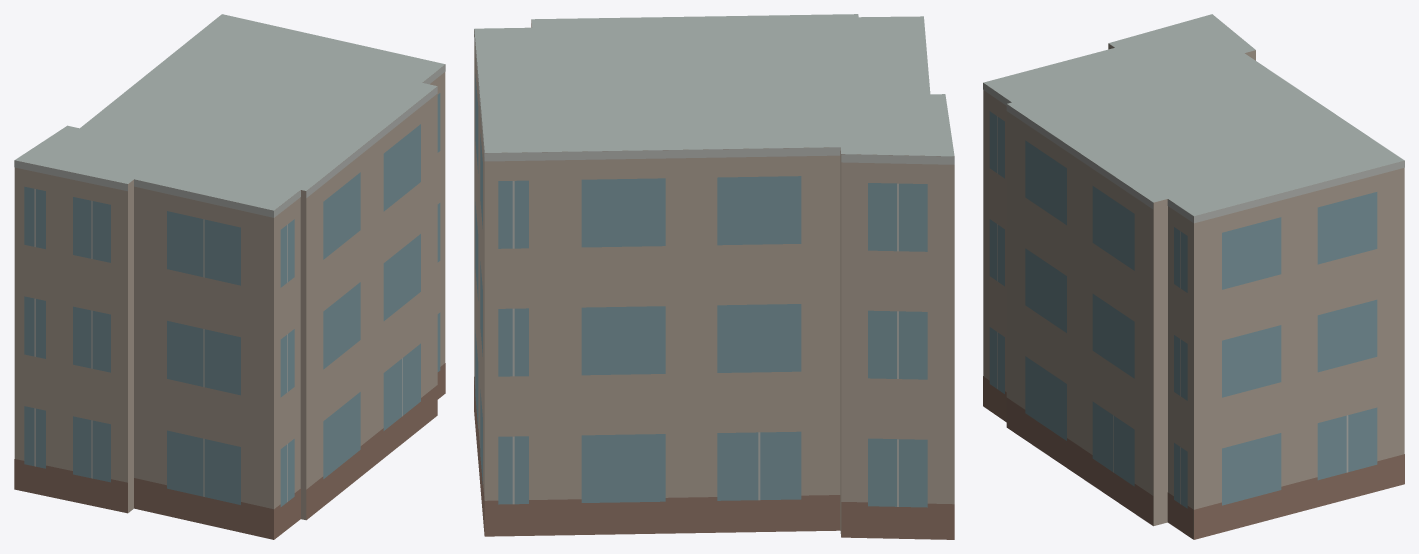
File: survey-upis-32845611.glb
3 views of the same model, side by side, from view 1: azimuth 30°, elevation 25°; view 2: azimuth 150°, elevation 25°; view 3: azimuth 270°, elevation 25° (orthographic). The views are drawn at different scales.
Visible parts, largest first — view 1: survey-upis-32845611.tmp; view 2: survey-upis-32845611.tmp; view 3: survey-upis-32845611.tmp.
Boxes of the visible parts, x1,y1,x2,y2 form: survey-upis-32845611.tmp: [14, 14, 445, 539]; survey-upis-32845611.tmp: [474, 14, 954, 539]; survey-upis-32845611.tmp: [983, 14, 1404, 539].
Bounding box in the file's own units: 14.89 × 11.1 × 13.12.
